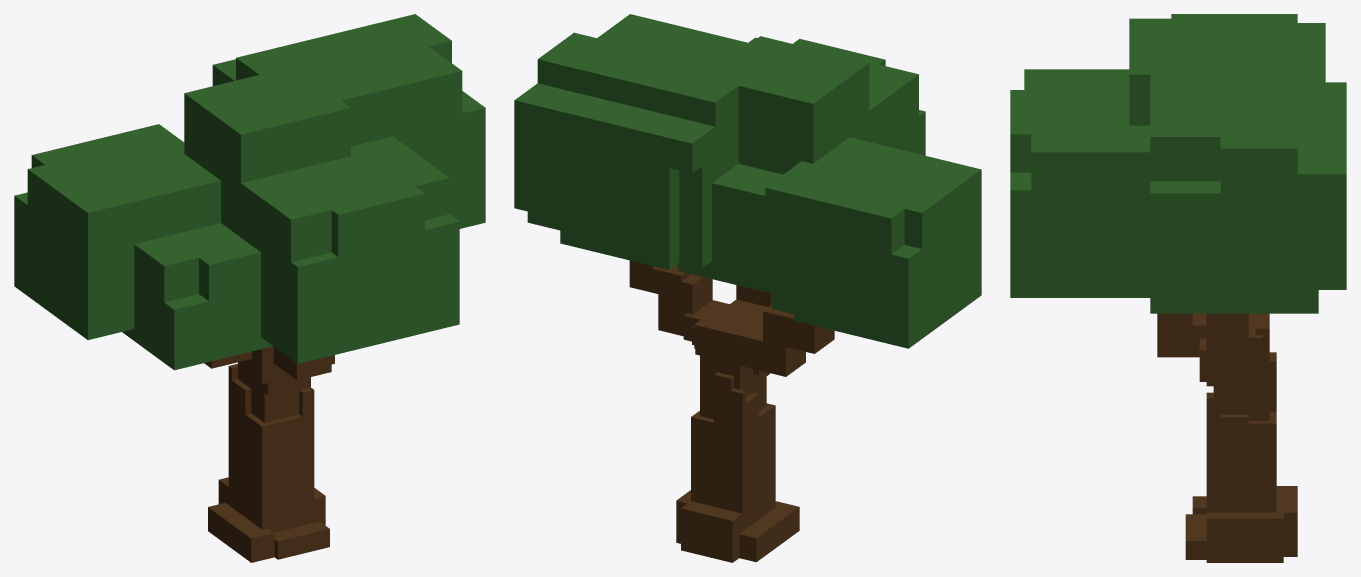
Rendered from TutorialTree.fbx.
The picture shows the model from 3 angles, left to right: view 1: azimuth 30°, elevation 25°; view 2: azimuth 150°, elevation 25°; view 3: azimuth 270°, elevation 25°; orthographic projection. The views are drawn at different scales.
Parts seen in each view (by area): view 1: TutorialTree.Merged; view 2: TutorialTree.Merged; view 3: TutorialTree.Merged.
Boxes of the visible parts, <box> form: TutorialTree.Merged: <box>14,14,485,562</box>; TutorialTree.Merged: <box>514,14,981,562</box>; TutorialTree.Merged: <box>1010,14,1346,562</box>.
Size of the model in its own units: 1340 by 1520 by 960.
